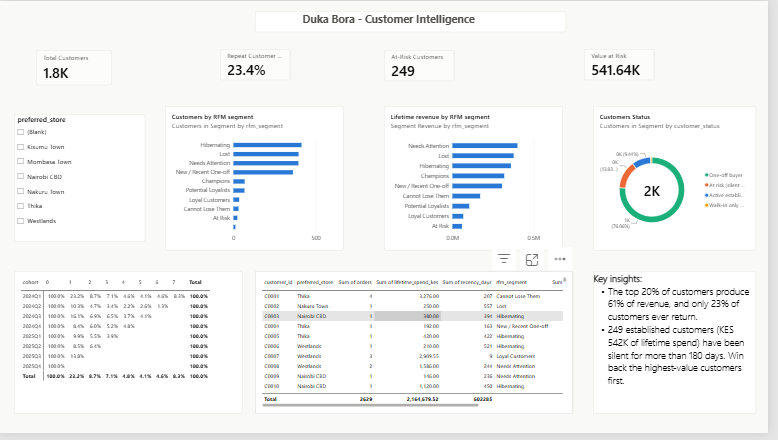

This screenshot's page, from the dashboard's own definition file:
{"tool":"powerbi","page":{"name":"Customer Intelligence","canvas":[1920,1080],"ordinal":2},"visuals":[{"type":"textbox","box":[637,24.2,778,52.9],"z":0},{"type":"cardVisual","fields":{"Data":["_Measures.Total Customers"]},"box":[90.4,123.4,190,87.5],"z":1000},{"type":"cardVisual","fields":{"Data":["_Measures.Value at Risk"]},"box":[1459.1,119,176.7,78.3],"z":2000},{"type":"cardVisual","fields":{"Data":["_Measures.At-Risk Customers"]},"box":[961,123.4,176.7,78.3],"z":3000},{"type":"cardVisual","fields":{"Data":["_Measures.Repeat Customer Rate"]},"box":[548.8,119,176.7,78.3],"z":4000},{"type":"slicer","fields":{"Values":["dim_customer.preferred_store"]},"box":[35.3,282.1,328.4,319.6],"z":5000},{"type":"clusteredBarChart","title":"Customers by RFM segment","fields":{"Category":["dim_customer.rfm_segment"],"Y":["_Measures.Customers in Segment"]},"box":[412.2,262.3,447.4,361.5],"z":6000},{"type":"clusteredBarChart","title":"Lifetime revenue by RFM segment","fields":{"Category":["dim_customer.rfm_segment"],"Y":["_Measures.Segment Revenue"]},"box":[961,262.3,447.4,361.5],"z":7000},{"type":"donutChart","title":"Customers Status","fields":{"Category":["dim_customer.customer_status"],"Y":["_Measures.Customers in Segment"]},"box":[1483.3,262.3,407.8,361.5],"z":8000},{"type":"pivotTable","fields":{"Columns":["cohort_retention.quarters_since_first"],"Rows":["cohort_retention.cohort"],"Values":["Max(cohort_retention.retention_pct)"]},"box":[35.3,674.4,570.9,357.1],"z":9000},{"type":"tableEx","fields":{"Values":["dim_customer.customer_id","dim_customer.preferred_store","Sum(dim_customer.orders)","Sum(dim_customer.lifetime_spend_kes)","Sum(dim_customer.recency_days)","dim_customer.rfm_segment","Sum(dim_customer.model_churn_probability)","Sum(dim_customer.at_risk_rule)"]},"box":[637,674.4,795.7,357.1],"z":10000},{"type":"textbox","box":[1483.3,674.4,407.8,357.1],"z":10001}]}

Visuals, with their boxes in screenshot pixels (x1, y1, x2, y2), scaled from the page's 1920x1080 canvas onto the 778x440 screenshot:
textbox: box=[258, 10, 573, 31]
cardVisual - _Measures.Total Customers: box=[37, 50, 114, 86]
cardVisual - _Measures.Value at Risk: box=[591, 48, 663, 80]
cardVisual - _Measures.At-Risk Customers: box=[389, 50, 461, 82]
cardVisual - _Measures.Repeat Customer Rate: box=[222, 48, 294, 80]
slicer - dim_customer.preferred_store: box=[14, 115, 147, 245]
"Customers by RFM segment" clusteredBarChart: box=[167, 107, 348, 254]
"Lifetime revenue by RFM segment" clusteredBarChart: box=[389, 107, 571, 254]
"Customers Status" donutChart: box=[601, 107, 766, 254]
pivotTable - cohort_retention.quarters_since_first x cohort_retention.cohort: box=[14, 275, 246, 420]
tableEx - dim_customer.customer_id x dim_customer.preferred_store: box=[258, 275, 581, 420]
textbox: box=[601, 275, 766, 420]
